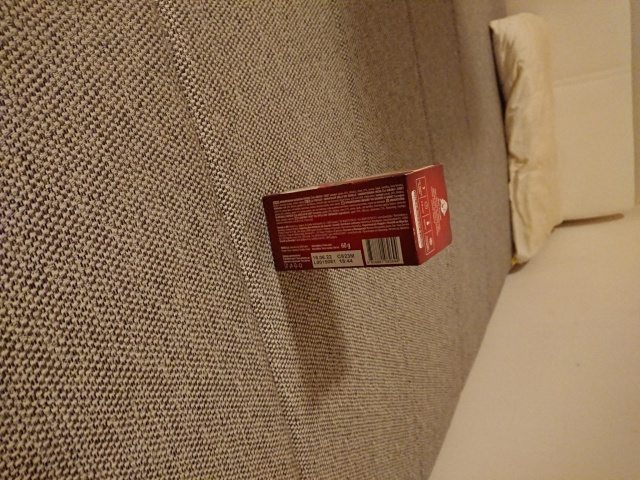Franck Apple Cinnamon Tea 60g: (259, 160, 456, 274)
